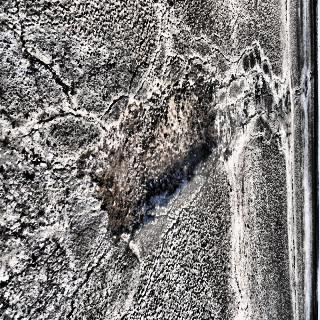alligator-crack: (3, 20, 90, 320), (219, 42, 297, 137)
pothole: (90, 78, 221, 237)
